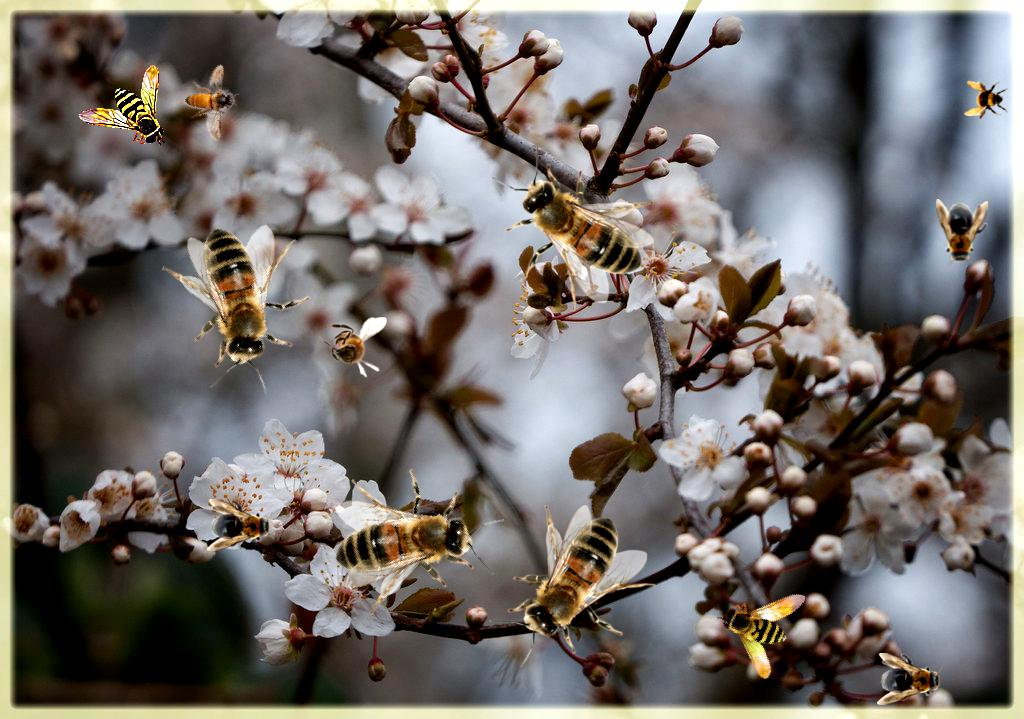Bee: (294, 422, 527, 656), (124, 185, 357, 419), (492, 145, 654, 312), (489, 505, 656, 667), (714, 569, 832, 685), (78, 65, 166, 147), (173, 56, 251, 143), (317, 317, 387, 378), (877, 653, 945, 705), (936, 199, 988, 267), (207, 499, 275, 551), (964, 79, 1008, 123)
